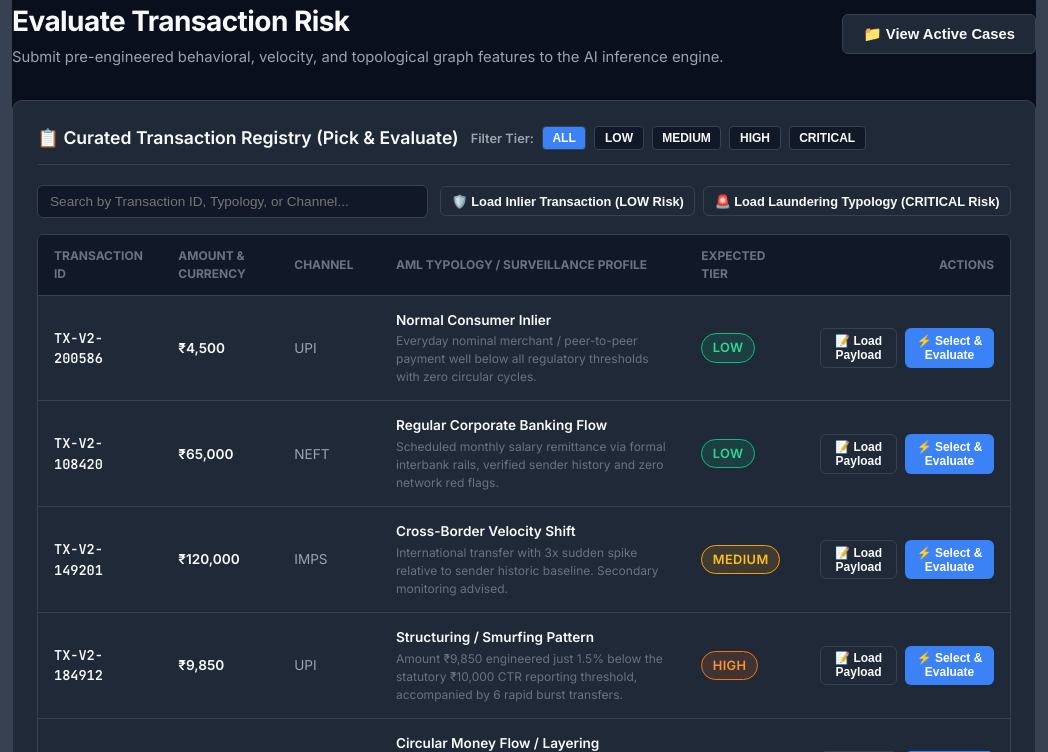
Test: AnalyzeTransaction Page Component › handles 503 ML Service Unavailable gracefully
The image size is (1048, 752).
Click the button "🛡️ Load Inlier Transaction (LOW Risk)".
click(568, 201)  # box [440,186,695,216]
(page scrolled)
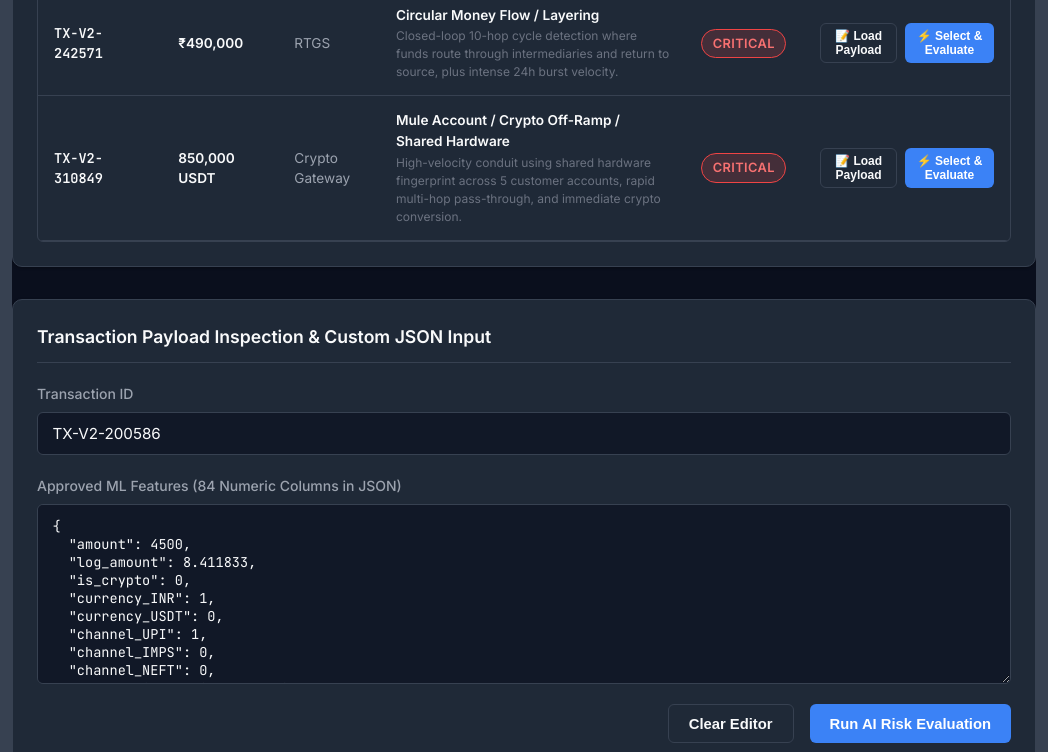
Click the button "Run AI Risk Evaluation".
click(910, 724)  # box [810,704,1011,743]
(page scrolled)
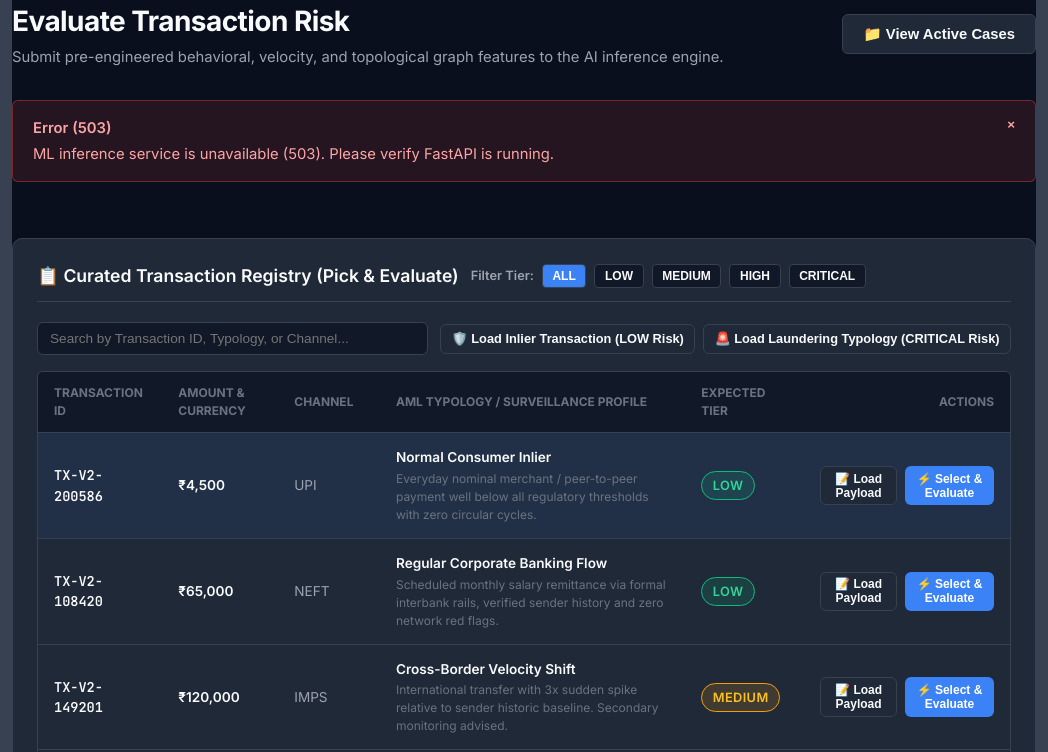
Check: the text "ML inference service is unavailable" is shown, box [33,145,554,163]
